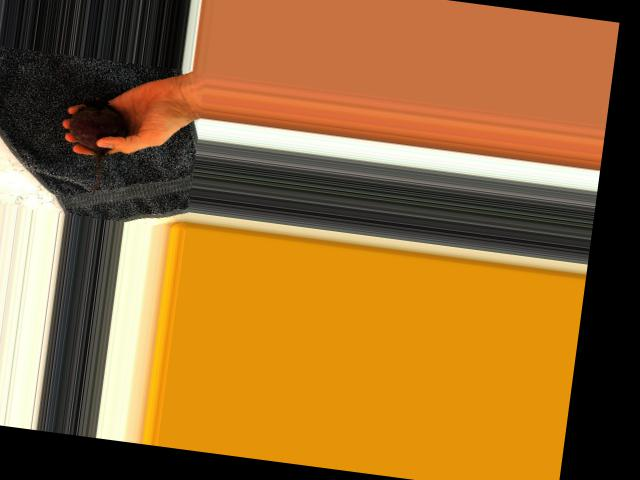beet: (59, 96, 130, 198)
